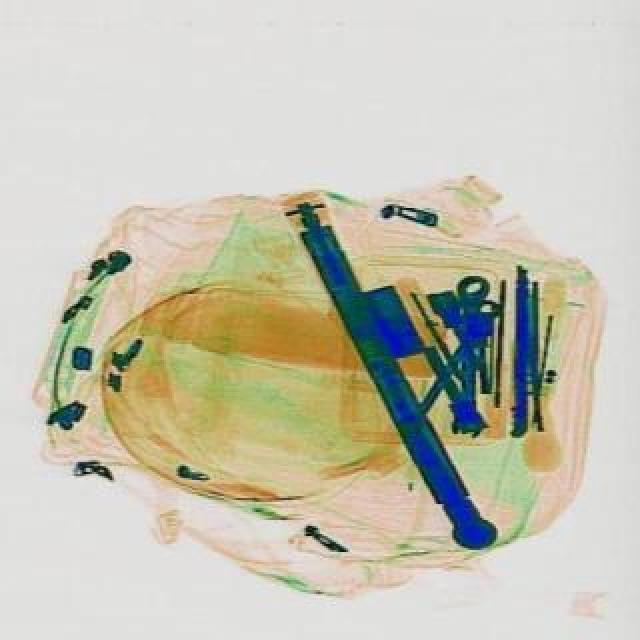scissors: (452, 274, 496, 438)
